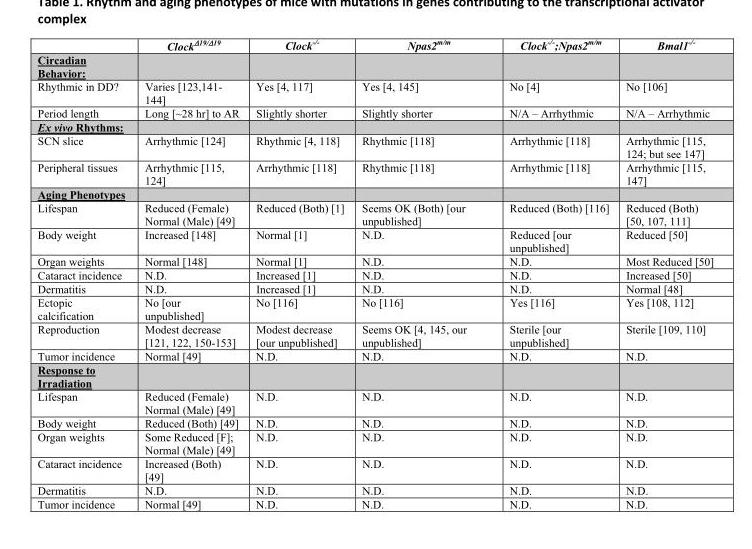table: (36, 36, 712, 509)
table column: (352, 36, 487, 509), (487, 36, 616, 509), (134, 36, 246, 509), (246, 36, 352, 509), (36, 36, 134, 509), (616, 36, 712, 509)
table column header: (36, 36, 712, 52)
table projected row header: (36, 52, 712, 79), (36, 362, 712, 389), (36, 119, 712, 133), (36, 186, 712, 200)
table row: (36, 52, 712, 79), (36, 133, 712, 160), (36, 200, 712, 227), (36, 227, 712, 254), (36, 321, 712, 348), (36, 362, 712, 389), (36, 429, 712, 456), (36, 456, 712, 483), (36, 79, 712, 105), (36, 160, 712, 186), (36, 295, 712, 321), (36, 389, 712, 415), (36, 36, 712, 52), (36, 105, 712, 119), (36, 119, 712, 133), (36, 186, 712, 200), (36, 267, 712, 281), (36, 281, 712, 295), (36, 348, 712, 362), (36, 415, 712, 429), (36, 254, 712, 267), (36, 483, 712, 496), (36, 496, 712, 509)
